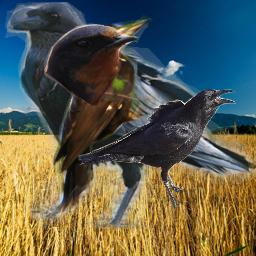Crow: (4, 2, 256, 229), (78, 88, 236, 211)
Swallow: (44, 23, 140, 106)
Woodpecker: (51, 15, 156, 214)
